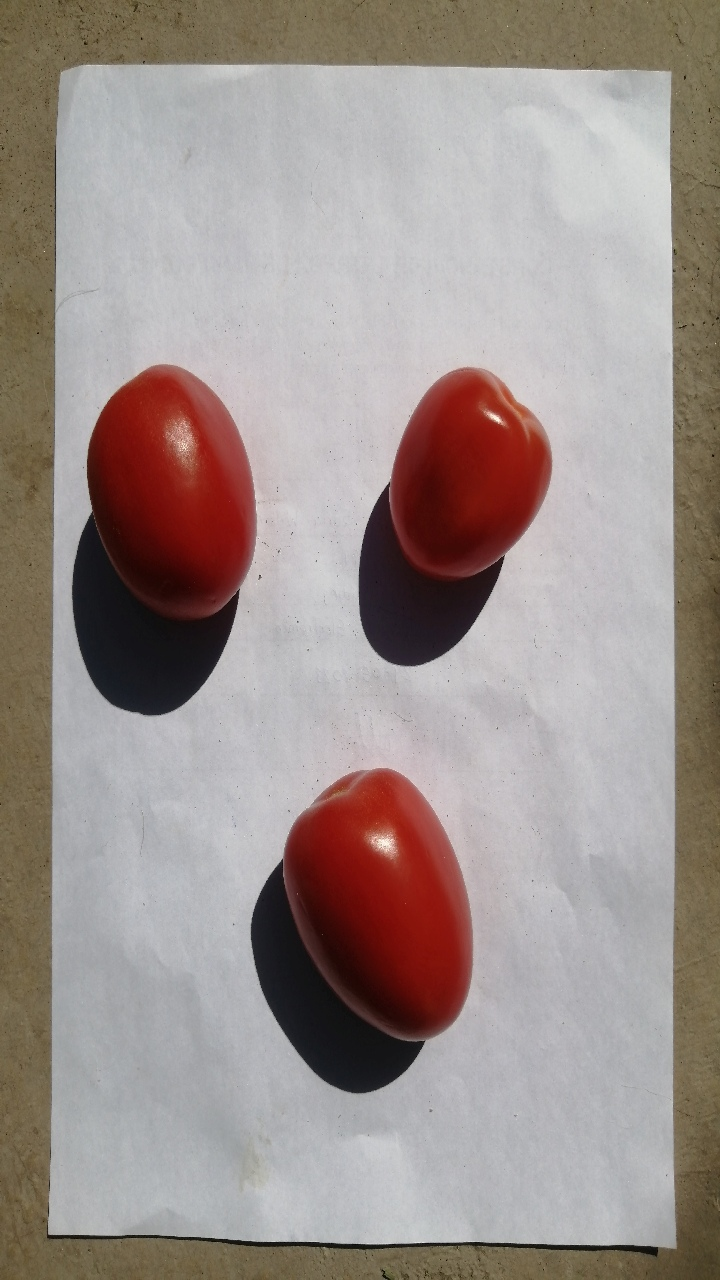tomateRojo: (69, 337, 292, 665), (261, 740, 478, 1060), (343, 340, 575, 609)
